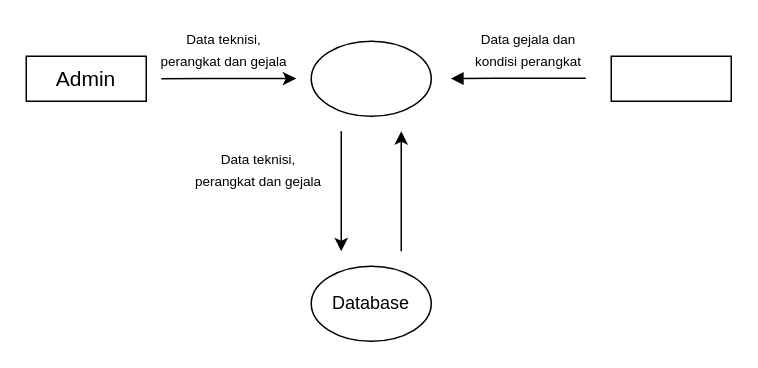
Image size: 758x368. Some labels were removed from this diagram. The centre of each missing label's shape, as x and y in pixels:
"Sistem" goes at point (370, 78).
"Teknisi" goes at point (670, 78).
